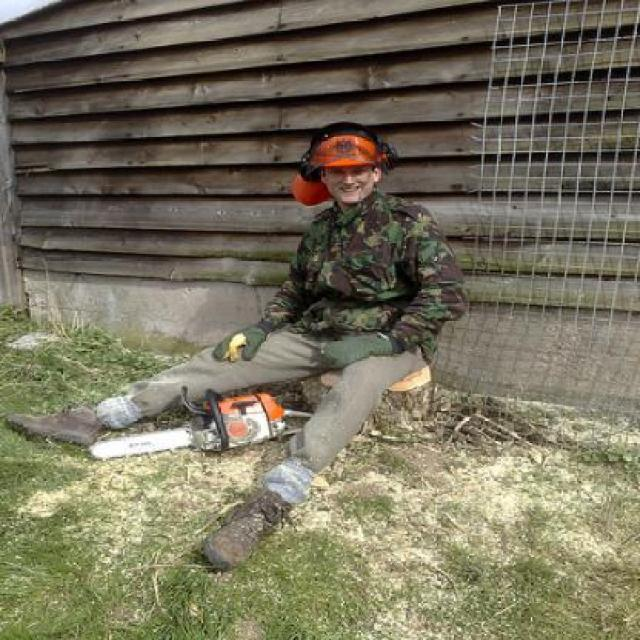Chainsaw: (84, 385, 316, 463)
